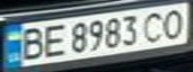3: (118, 12, 145, 47)
8: (66, 19, 90, 54), (103, 15, 127, 48)
9: (84, 17, 109, 52)
B: (15, 25, 48, 62)
C: (139, 8, 172, 43)
E: (36, 21, 69, 59)
O: (157, 6, 193, 39)
